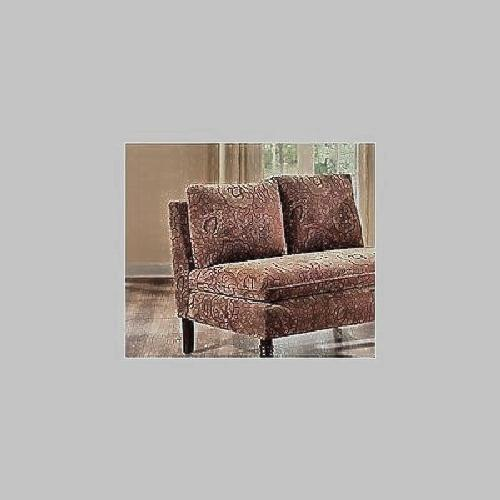sofa: (168, 172, 374, 339)
